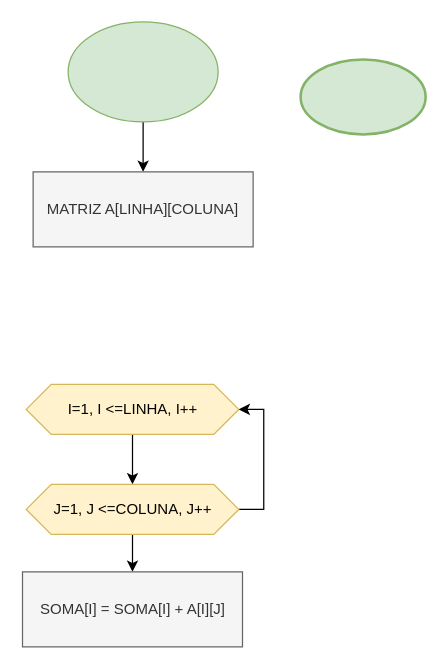
This 448x669 diagram has some shape labels left out. Here are the shapes that lost their labels. From the top down, the centre of each, then its label:
point 142,71: INICIO
point 362,96: FIM
